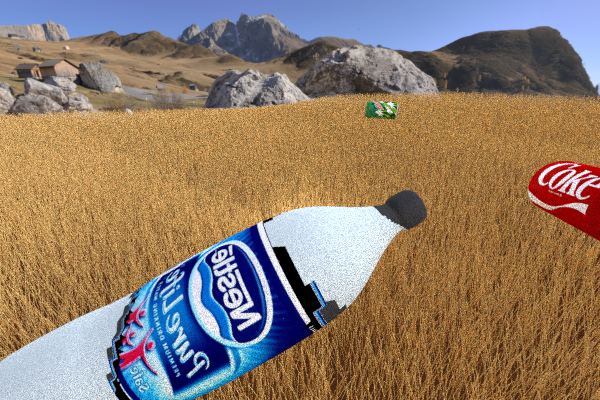Plastic Bottle: (0, 189, 426, 400), (527, 160, 600, 247), (364, 101, 398, 119)
